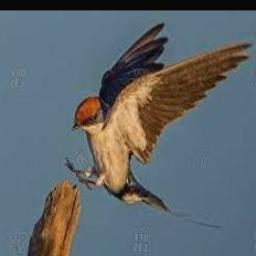Swallow: (65, 22, 256, 229)
